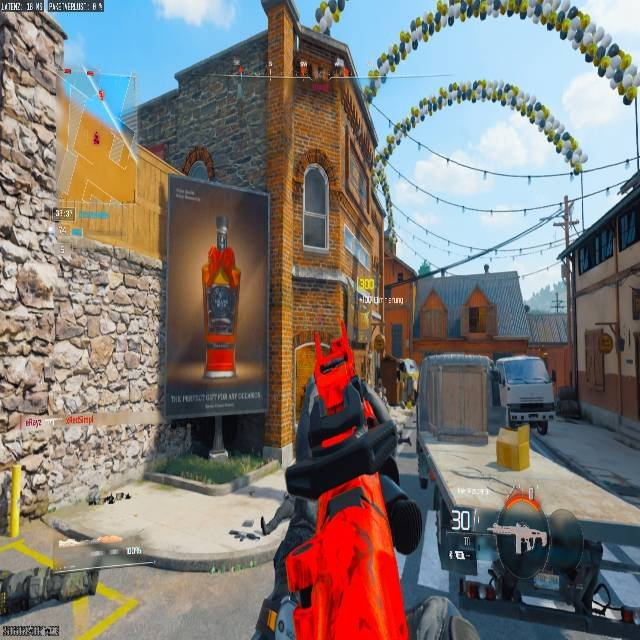head: (371, 312, 380, 322)
player: (369, 312, 386, 354)
